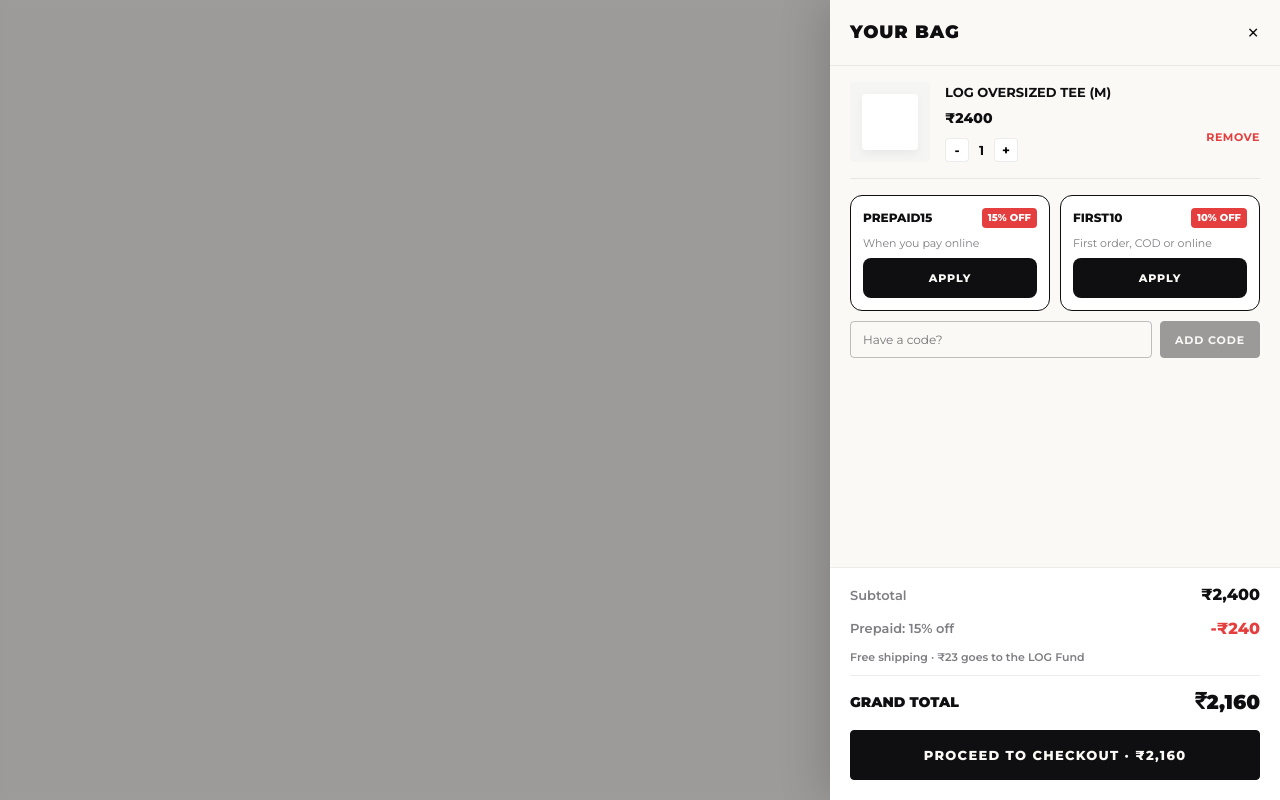
it: ConsentBanner and Consent Management › renders 15% OFF on prepaid orders in payment options and Prepaid: 15% off label in CartDrawer
Expected: the text "Prepaid: 15% off" is shown, [850,618,954,639]
# Proceed to checkout step
Click the button "Proceed to Checkout · ₹2,160": point(1055, 755) [850,730,1260,780]
(page scrolled)
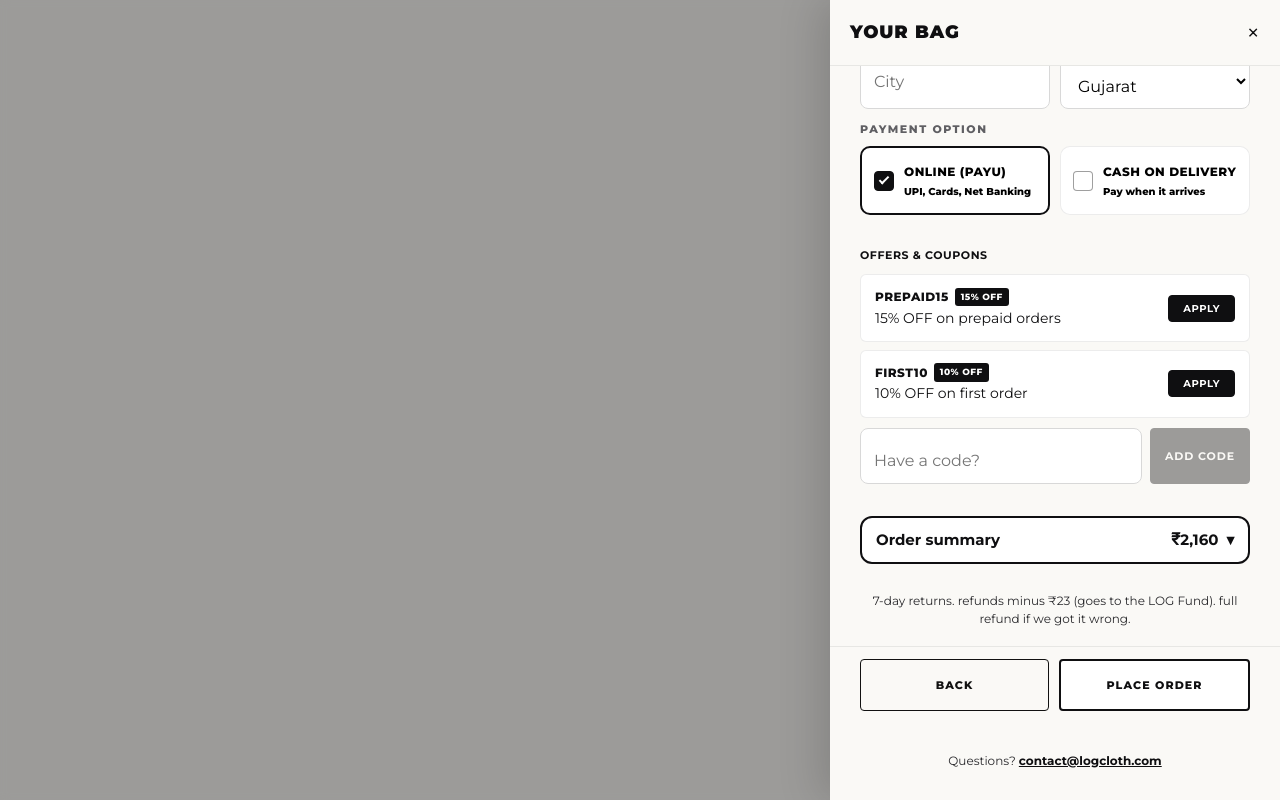
Expected: the text "UPI, Cards, Net Banking" is shown, [904,185,1036,199]
# Verify discount label in checkout order summary
Click the button "Order summary ₹2,160 ▾": point(938, 540) [860,516,1250,564]
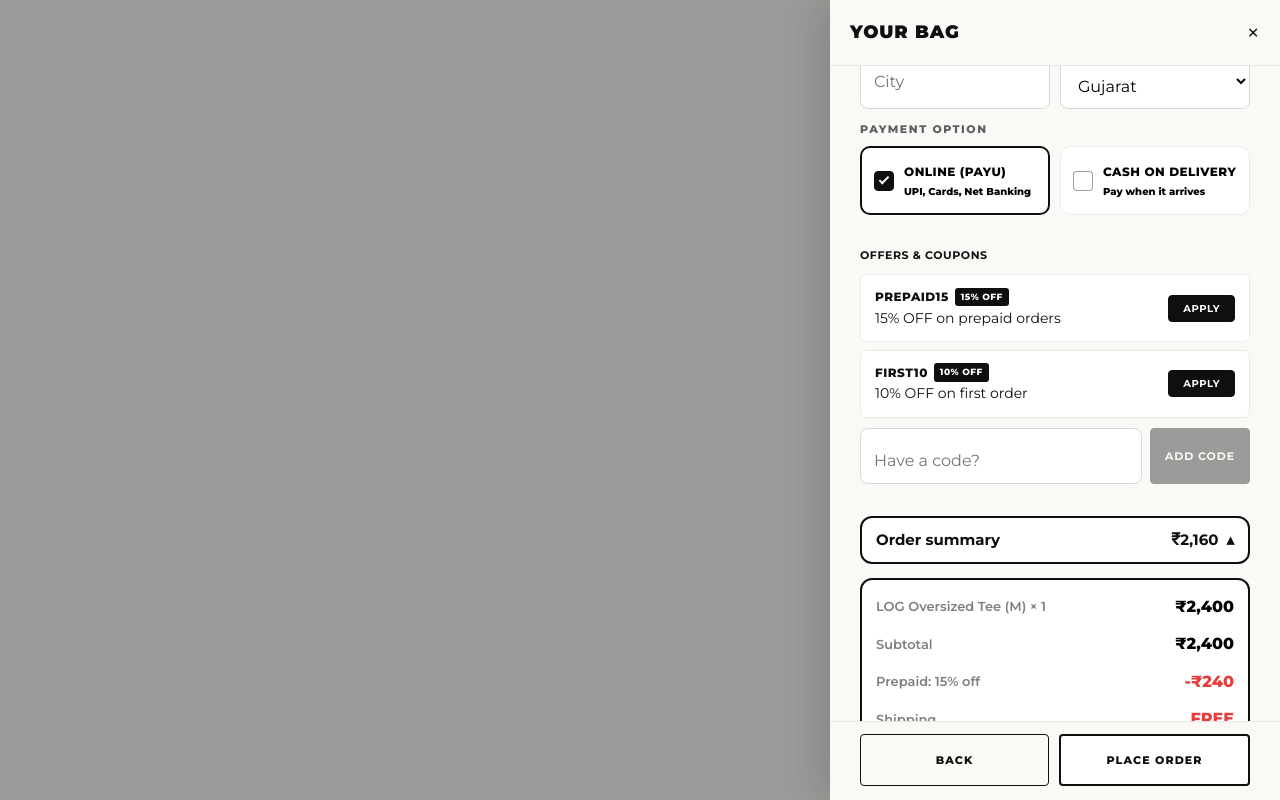
Expected: the text "Prepaid: 15% off" is shown, [876,671,980,692]
